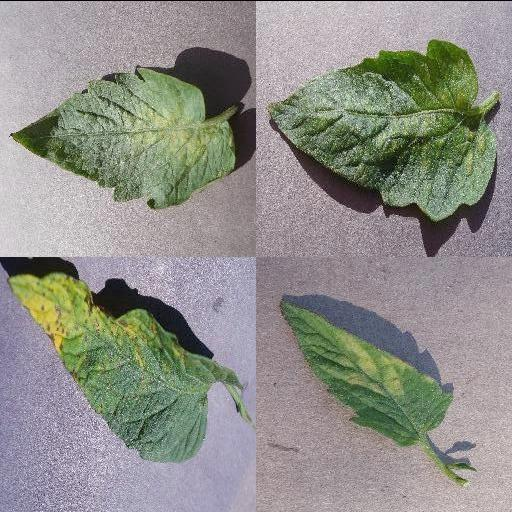Leaf Mold: (277, 298, 451, 444)
Septoria: (9, 272, 247, 462)
Spider Mites: (266, 39, 498, 219), (9, 65, 235, 209)
